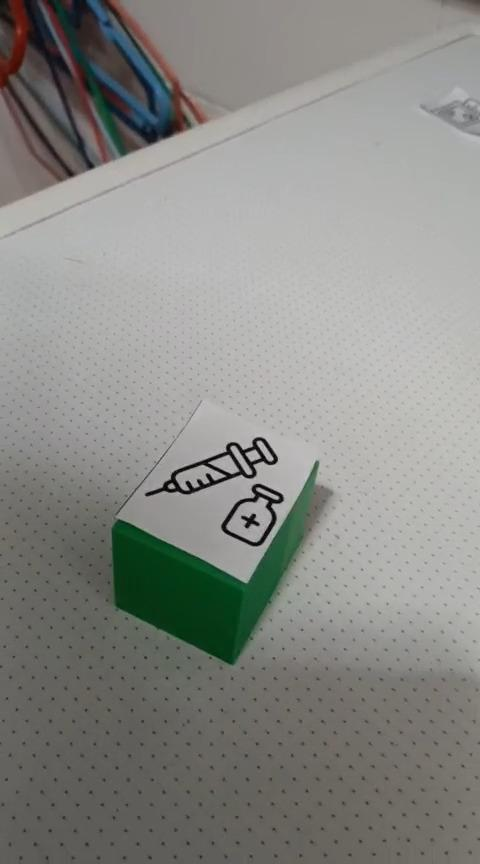antiseptic cream: (109, 397, 320, 665)
